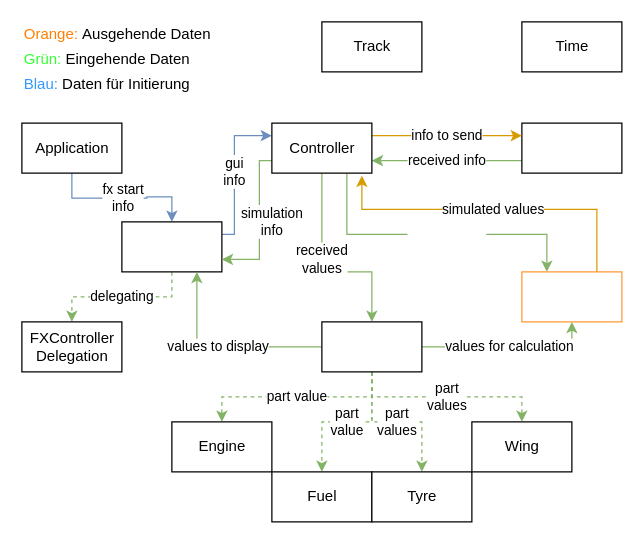
The diagram is 644 pixels wide and 544 high, and some of its shapes have lost their labels. The shapes that lost their labels are listed below. From the top down, each one's centre as x and y in pixels, then its label:
At [571,147]: "NodeRed Communication".
At [171,246]: "FXController".
At [571,296]: "Simulation".
At [371,346]: "Car".
